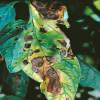Potato leaf early blight: (1, 3, 83, 99)
